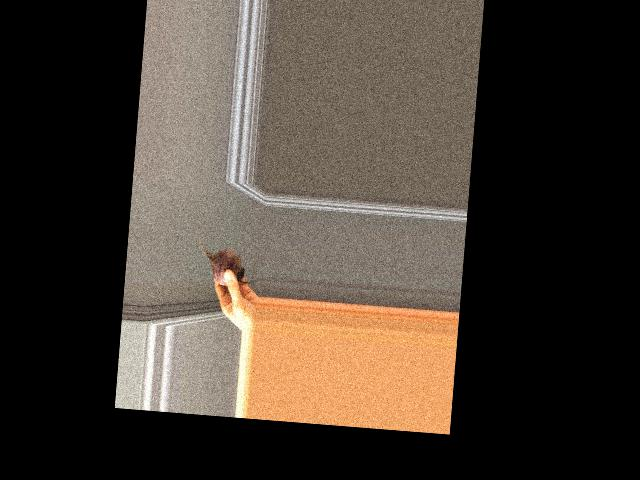beet: (193, 227, 263, 288)
